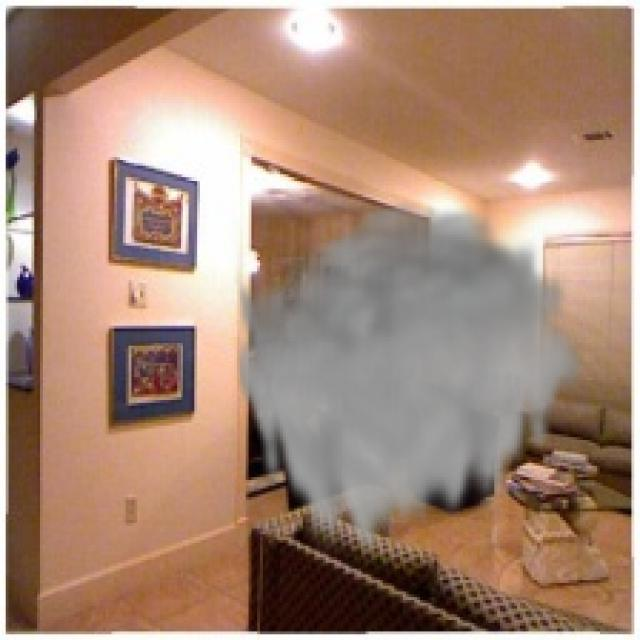smoke: (232, 194, 588, 569)
